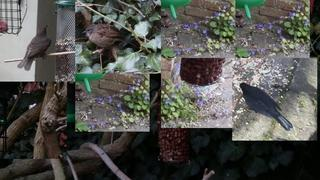blackbird: (239, 82, 293, 131)
dunnock: (82, 24, 137, 55)
starling: (17, 24, 51, 71)
